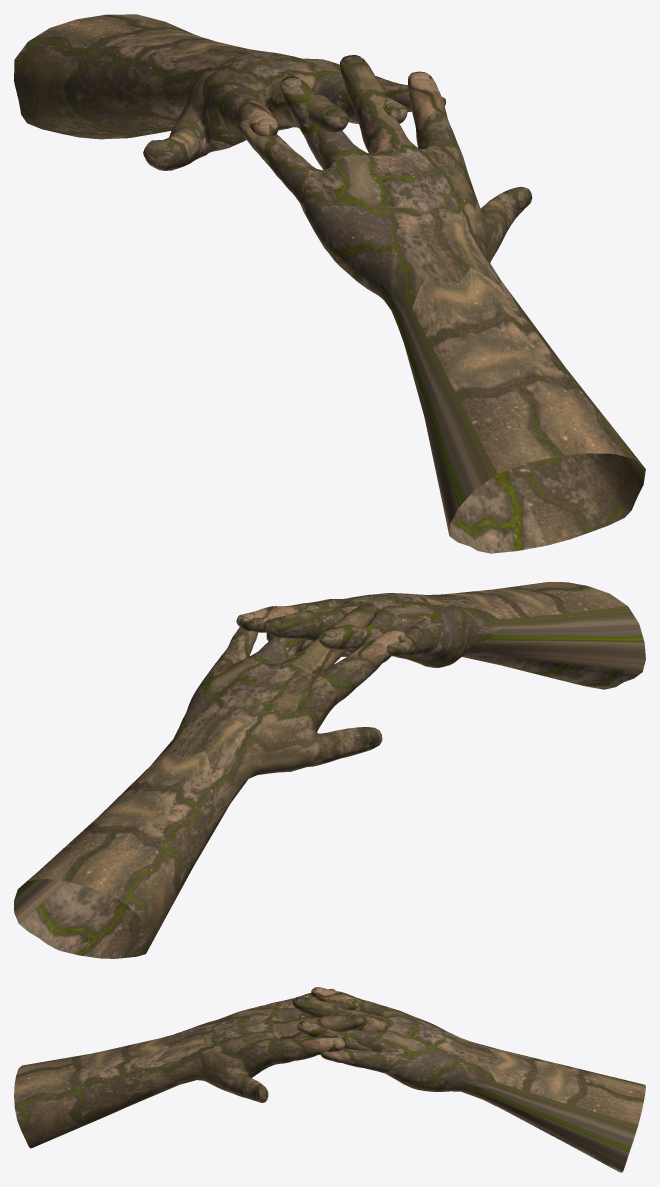
File: hands_000005.obj
The picture shows the model from 3 angles, top to bottom: view 1: azimuth 30°, elevation 25°; view 2: azimuth 150°, elevation 25°; view 3: azimuth 270°, elevation 25°; orthographic projection. The views are drawn at different scales.
Visible parts, largest first — view 1: hand.001_Mesh.001, hand_Mesh; view 2: hand_Mesh, hand.001_Mesh.001; view 3: hand_Mesh, hand.001_Mesh.001.
Part boxes in pixels (bbox=[...]): hand.001_Mesh.001: bbox=[238, 55, 645, 553]; hand_Mesh: bbox=[14, 14, 445, 170]; hand_Mesh: bbox=[14, 603, 405, 958]; hand.001_Mesh.001: bbox=[236, 582, 645, 689]; hand_Mesh: bbox=[292, 987, 645, 1172]; hand.001_Mesh.001: bbox=[14, 989, 363, 1148].
Size of the model in its own units: 1.58 by 1.4 by 5.46.
Materials: 1 (1 with a texture image).
